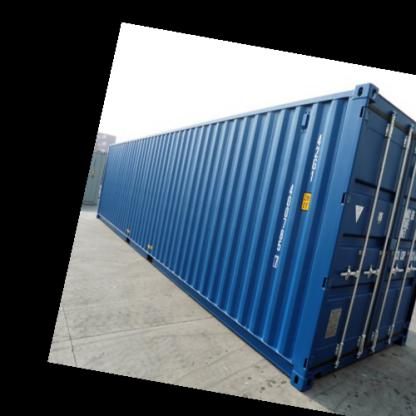Damage: (363, 107, 412, 131)
